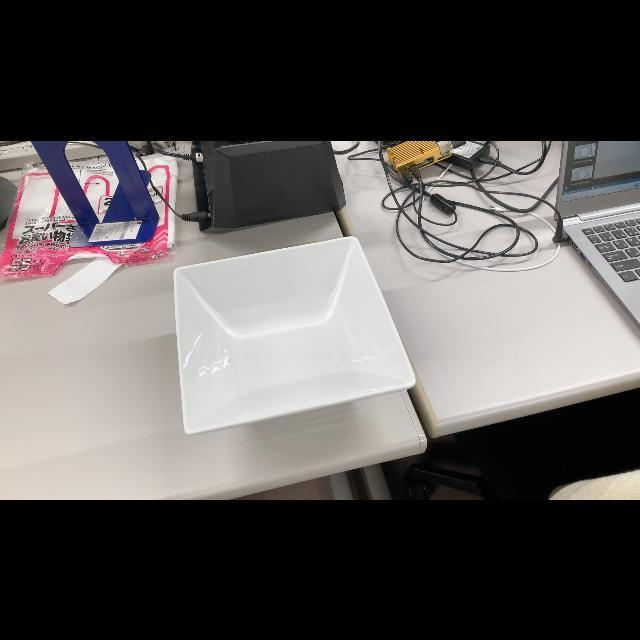plate: (172, 235, 418, 435)
